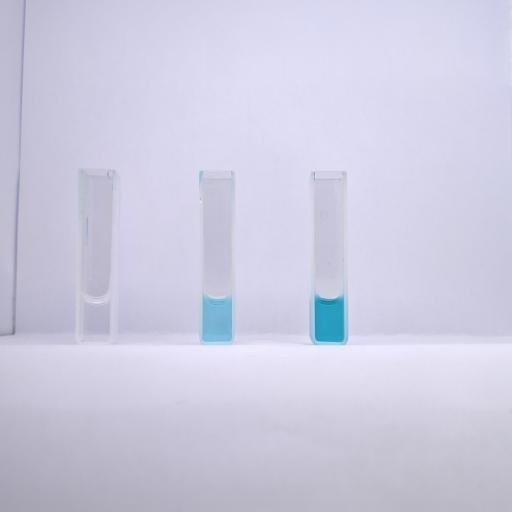cuvette: (75, 165, 120, 348), (308, 168, 350, 347), (197, 167, 237, 346)
liquid: (315, 295, 344, 341), (204, 296, 232, 341), (82, 296, 110, 340)
